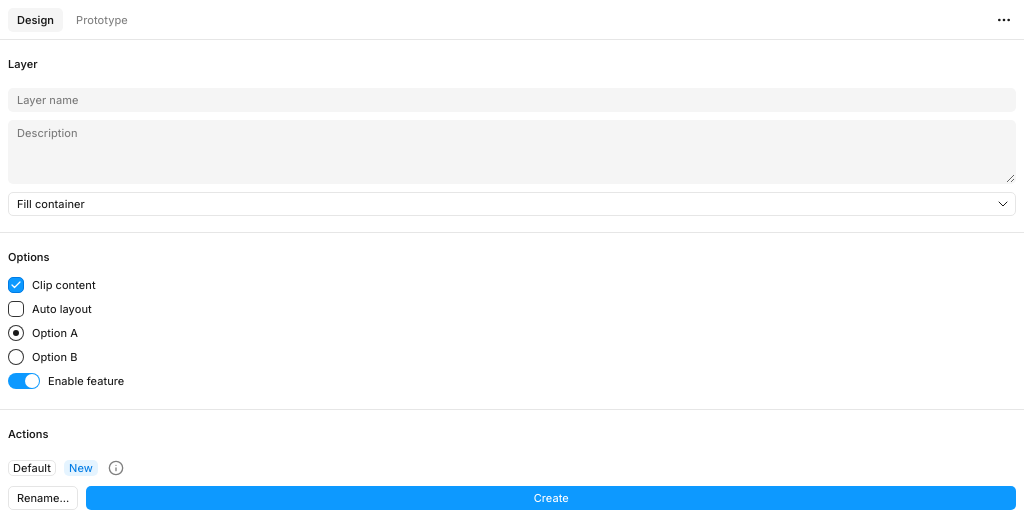
Scenario: App (component sampler) › switches to the Prototype tab
Click the tab "Prototype": [102, 20] box [67,8,137,32]
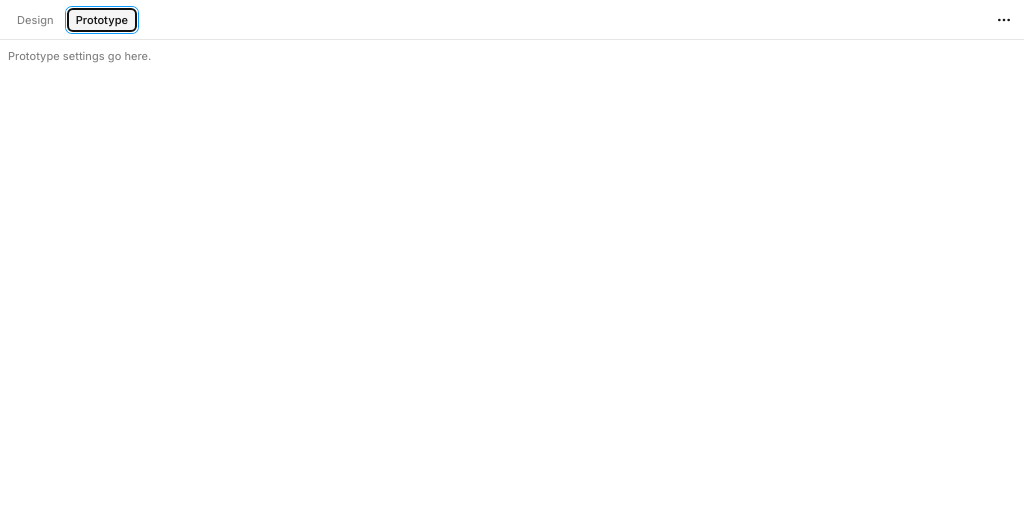
Result: the text "Prototype settings go here." is shown at [8,49,151,63]
